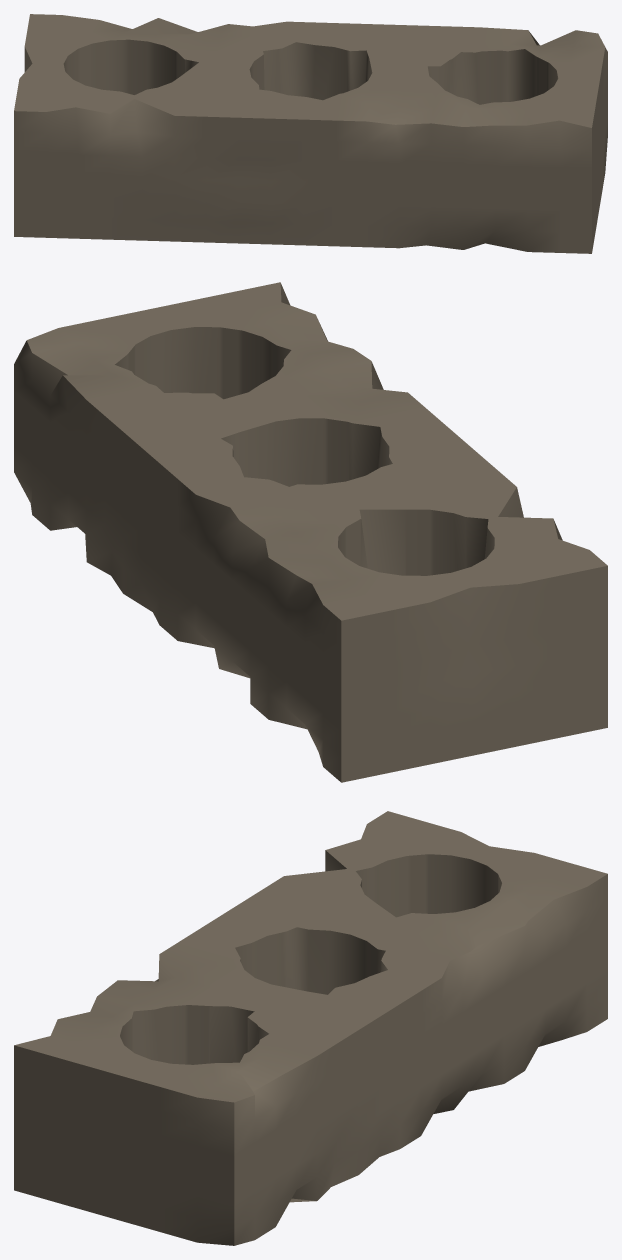
File: Brick1.fbx
3 views of the same model, one above another, from view 1: azimuth 30°, elevation 25°; view 2: azimuth 150°, elevation 25°; view 3: azimuth 270°, elevation 25° (orthographic). The views are drawn at different scales.
Visible parts, largest first — view 1: polySurface2; view 2: polySurface2; view 3: polySurface2.
Part boxes in pixels (x1,y1,x2,y2): polySurface2: [14, 14, 607, 253]; polySurface2: [14, 282, 607, 782]; polySurface2: [14, 811, 607, 1245].
Bounding box in the file's own units: 0.7168 × 0.1633 × 0.6058.
